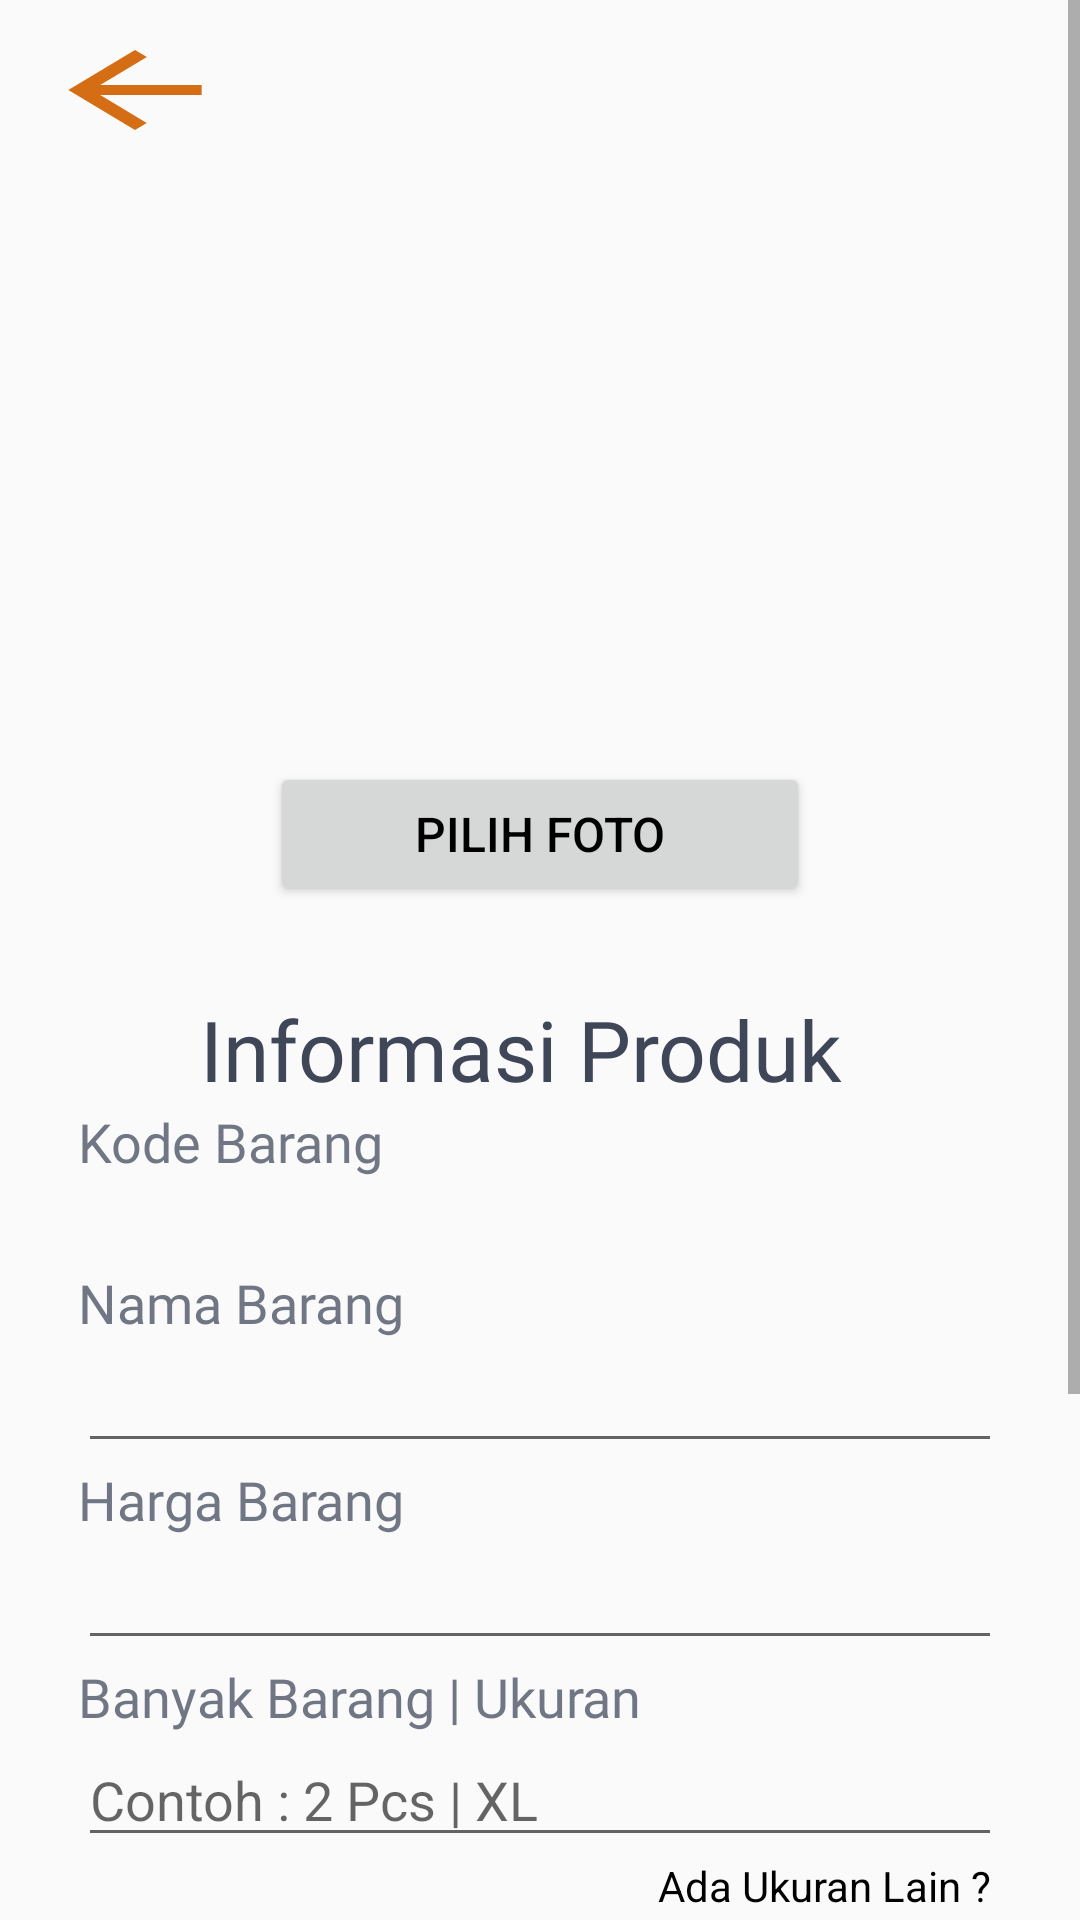

Point at icon controls on the screen. Image size 1080 × 1920, points as (x,y).
arrow back: (135,90)
